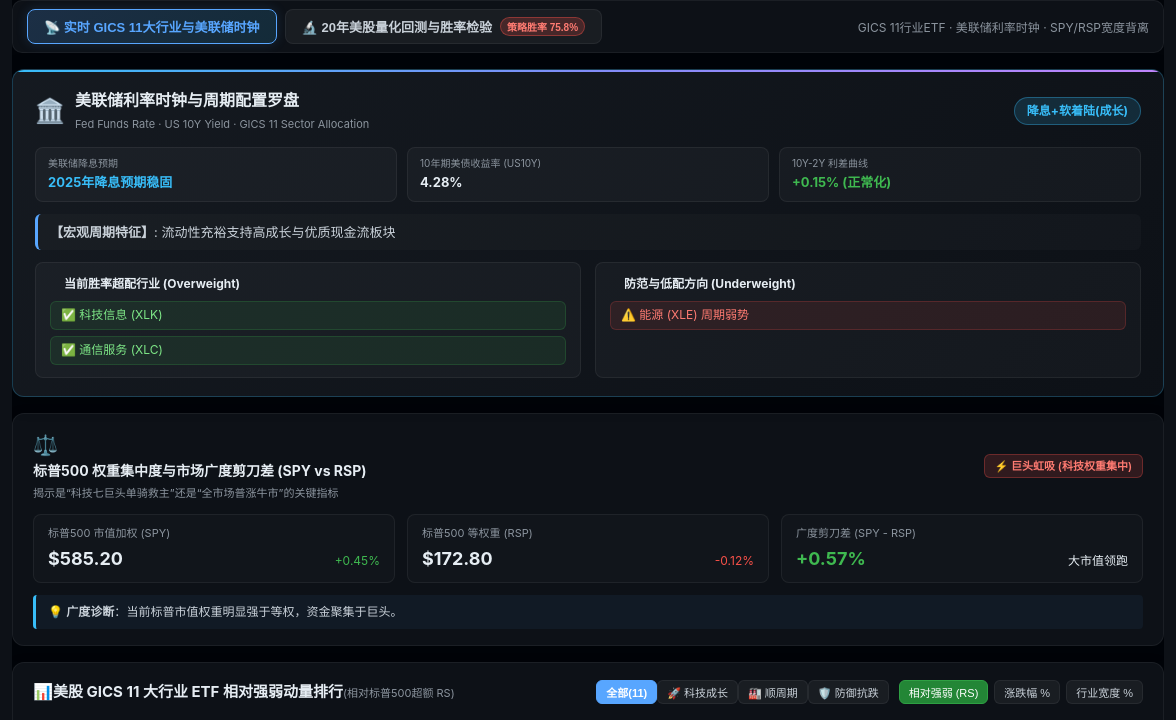
Test: Market Dashboard UI Components › UsSectorRotationRadar › should render fed cycle compass, divergence card, GICS table, and signals
This screenshot has width=1176, height=720.
Check: the heading "美联储利率时钟与周期配置罗盘" is shown, box [75, 90, 299, 110]
Check: the text "降息+软着陆(成长)" is shown, box [1014, 96, 1141, 124]
Click the button "🚀 科技成长" at (698, 692), box [657, 680, 738, 704]
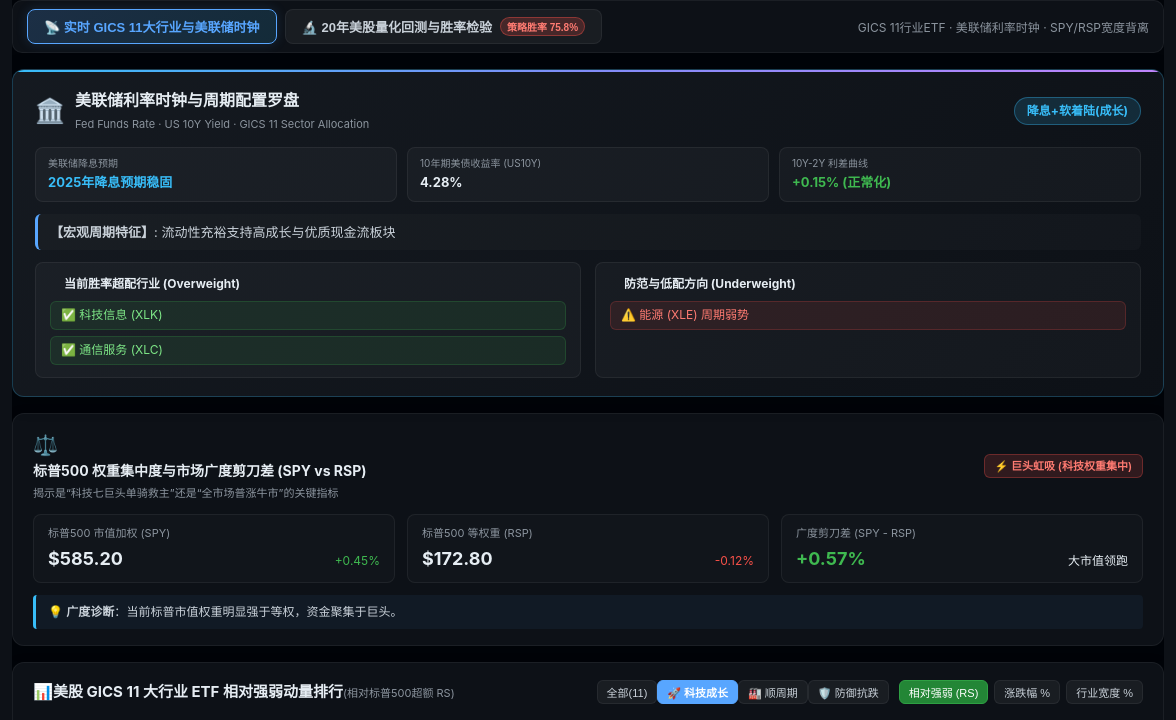
Click the button "全部(11)" at (627, 692), box [596, 680, 657, 704]
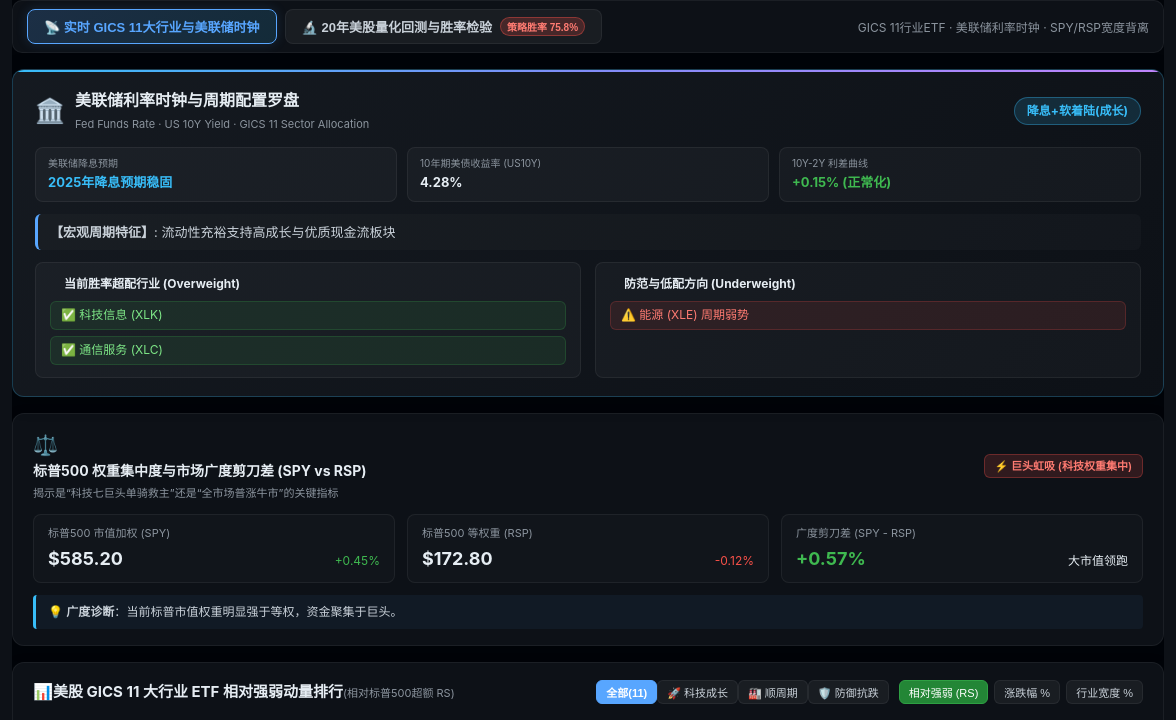
Note: 切换到 20年量化回测标签
Click the button "🔬 20年美股量化回测与胜率检验 策略胜率 75.8%" at (443, 26), box [285, 9, 602, 44]
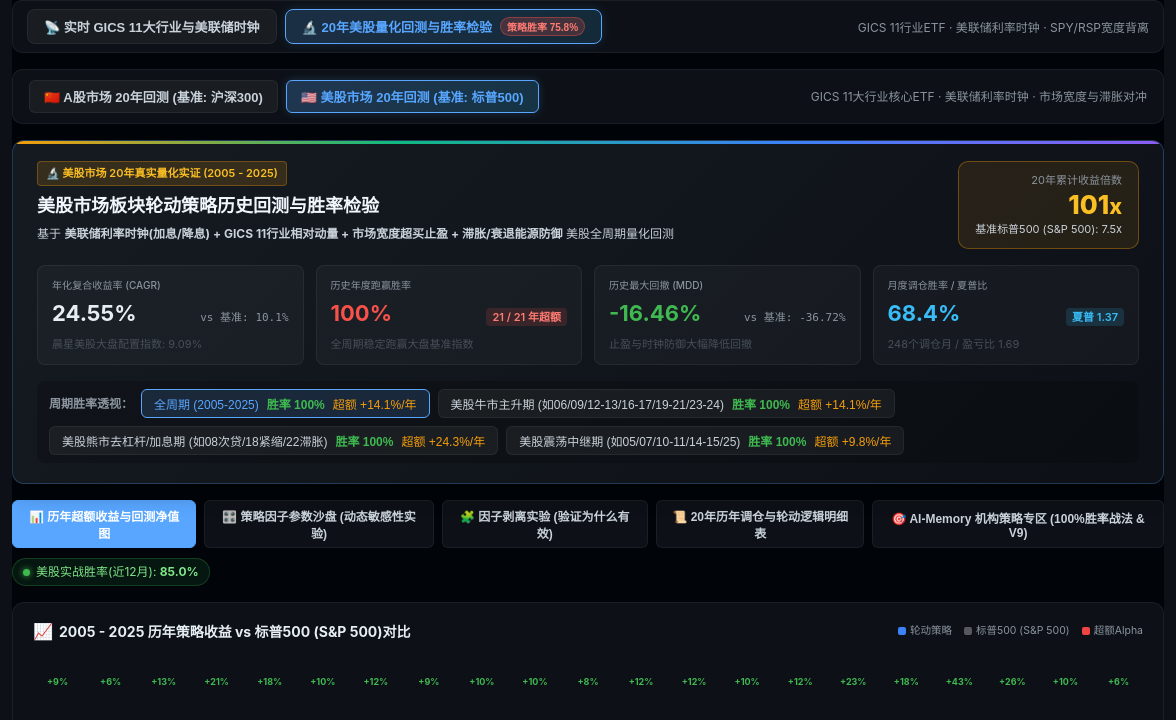
Check: the heading "美股市场板块轮动策略历史回测与胜率检验" is shown, box [37, 194, 379, 216]
Check: the text "年化复合收益率 (CAGR)" is shown, box [52, 279, 161, 291]
